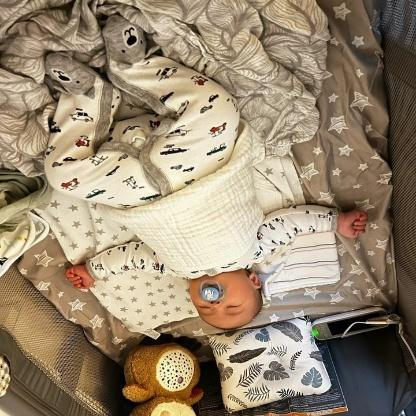baby: (43, 16, 366, 332)
